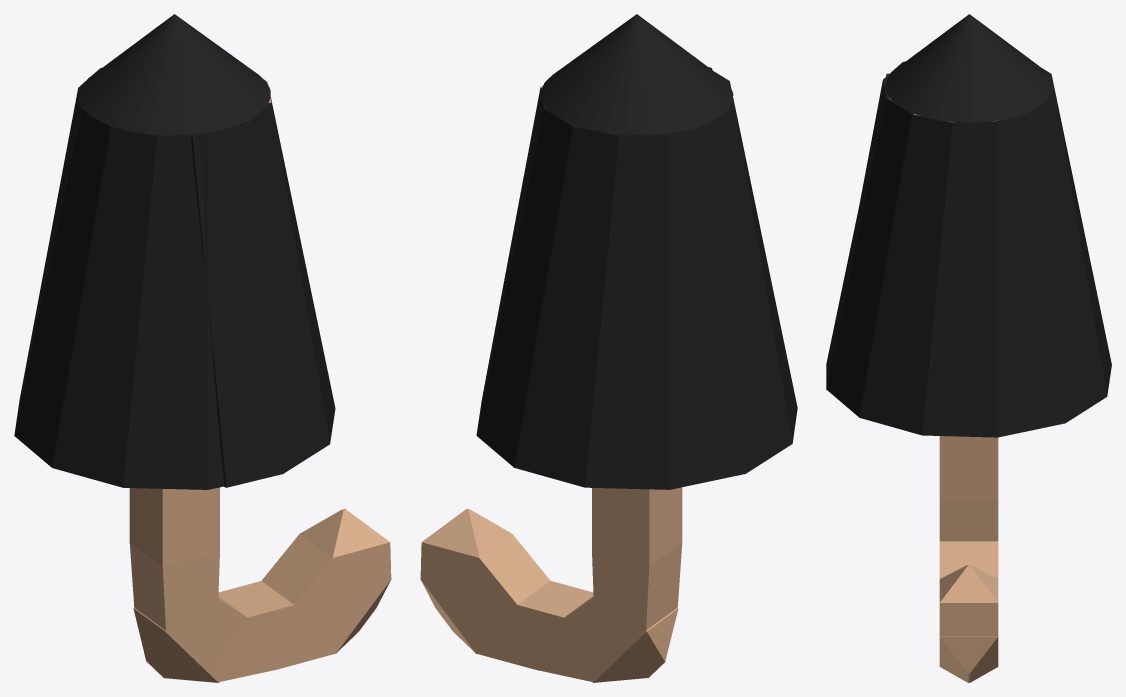
File: umbrella_close.fbx
3 views of the same model, side by side, from view 1: azimuth 30°, elevation 25°; view 2: azimuth 150°, elevation 25°; view 3: azimuth 270°, elevation 25° (orthographic). The views are drawn at different scales.
Visible parts, largest first — view 1: Cube; view 2: Cube; view 3: Cube.
Boxes of the visible parts, box(x1,y1,x2,y2) form: Cube: box(14, 14, 391, 682); Cube: box(420, 14, 797, 682); Cube: box(826, 14, 1111, 682).
Bounding box in the file's own units: 1189 × 2218 × 972.
